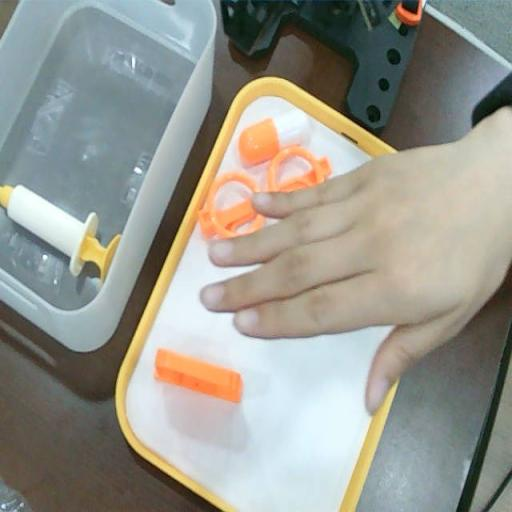hospital: (192, 98, 512, 417)
